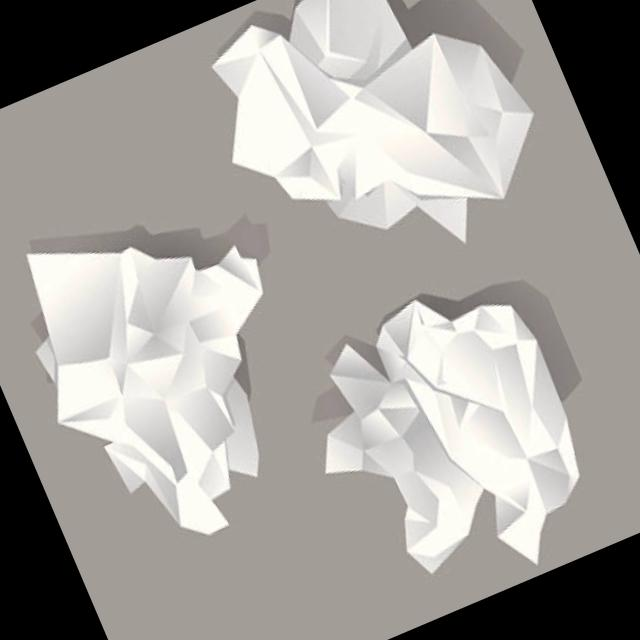KertasBekas: (0, 172, 349, 576), (276, 260, 620, 630), (177, 0, 571, 316)
